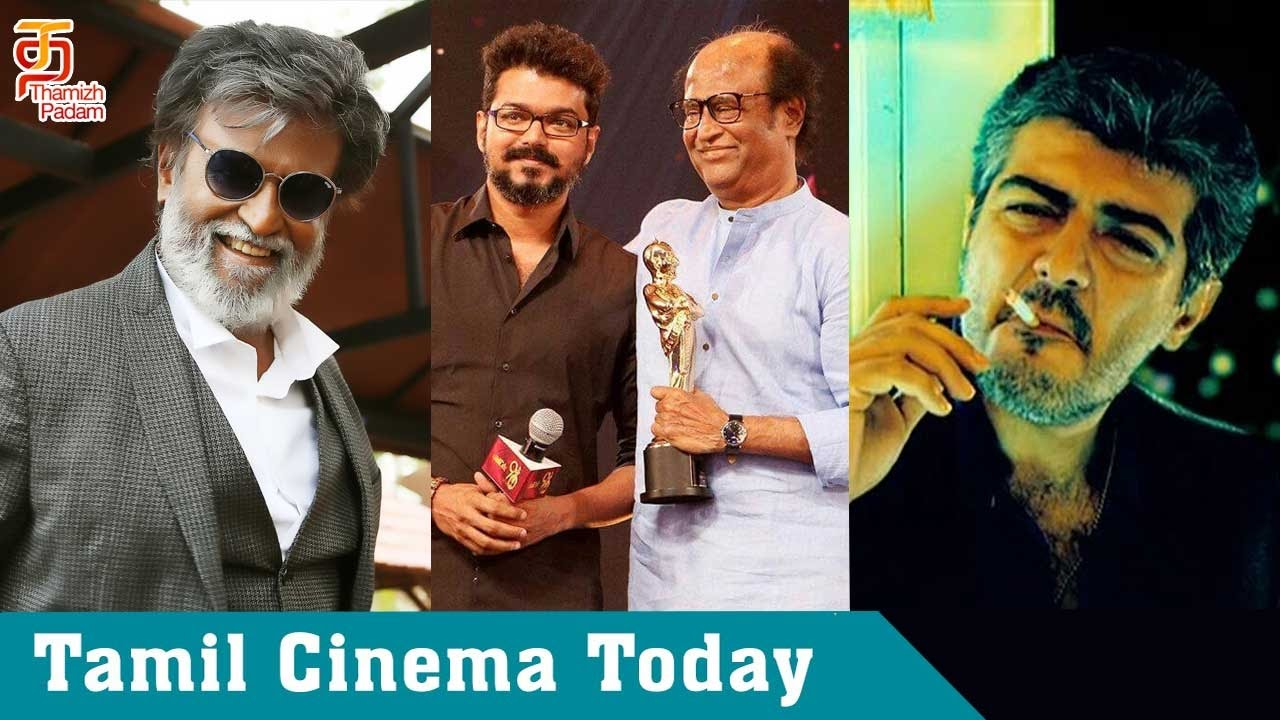cigarette: (1002, 282, 1041, 329)
